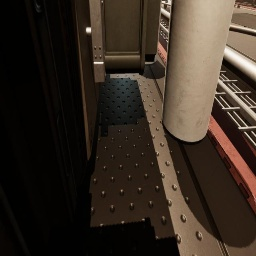0: (162, 0, 236, 143), (145, 0, 162, 66)
NitrogenTank ,: (235, 0, 244, 3)
